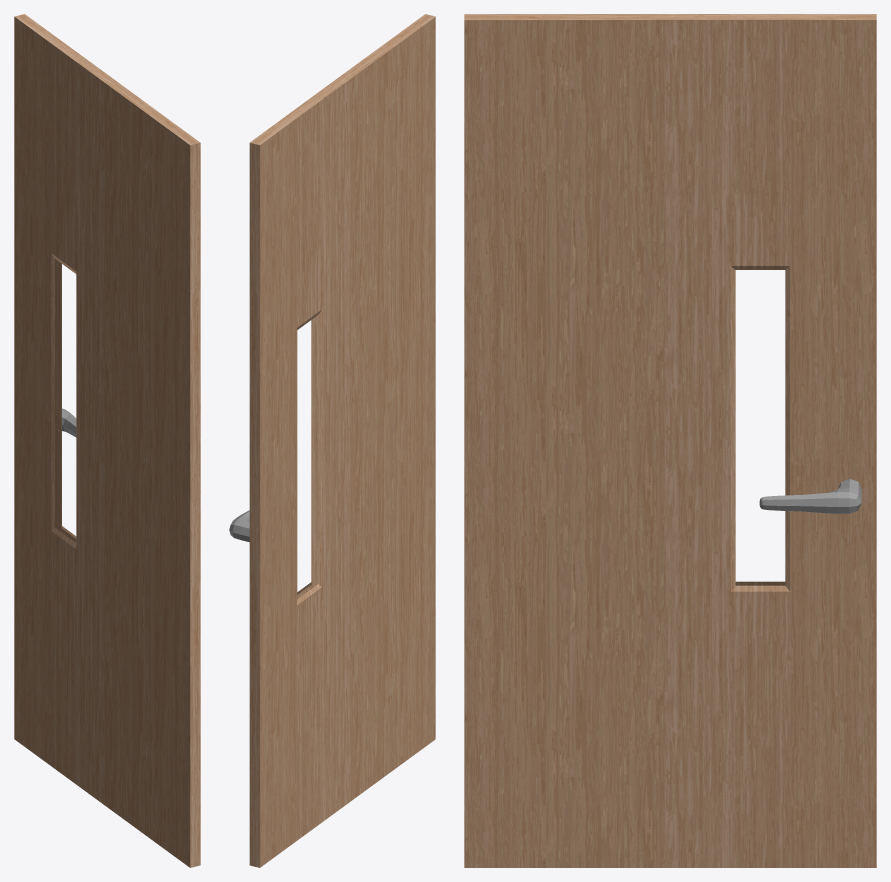
Rendered from singleDoor-wood.glb.
3 views of the same model, side by side, from view 1: azimuth 30°, elevation 25°; view 2: azimuth 150°, elevation 25°; view 3: azimuth 270°, elevation 25° (orthographic). The views are drawn at different scales.
Parts seen in each view (by area): view 1: Cube.069; view 2: Cube.069; view 3: Cube.069.
Boxes of the visible parts, x1,y1,x2,y2 form: Cube.069: (14, 14, 200, 867); Cube.069: (229, 14, 435, 867); Cube.069: (464, 14, 876, 867).
Size of the model in its own units: 0.1459 by 2.47 by 1.09.
2 materials, 1 textured.
